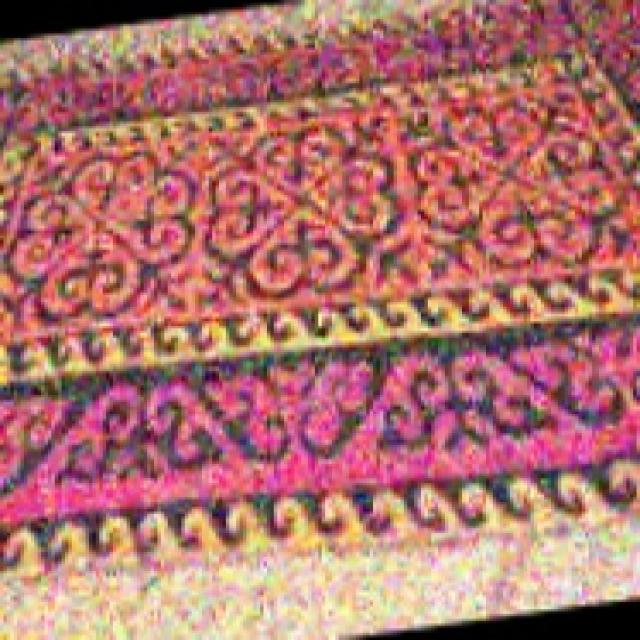Unity: (407, 85, 635, 267), (0, 139, 209, 337), (204, 118, 416, 304)
